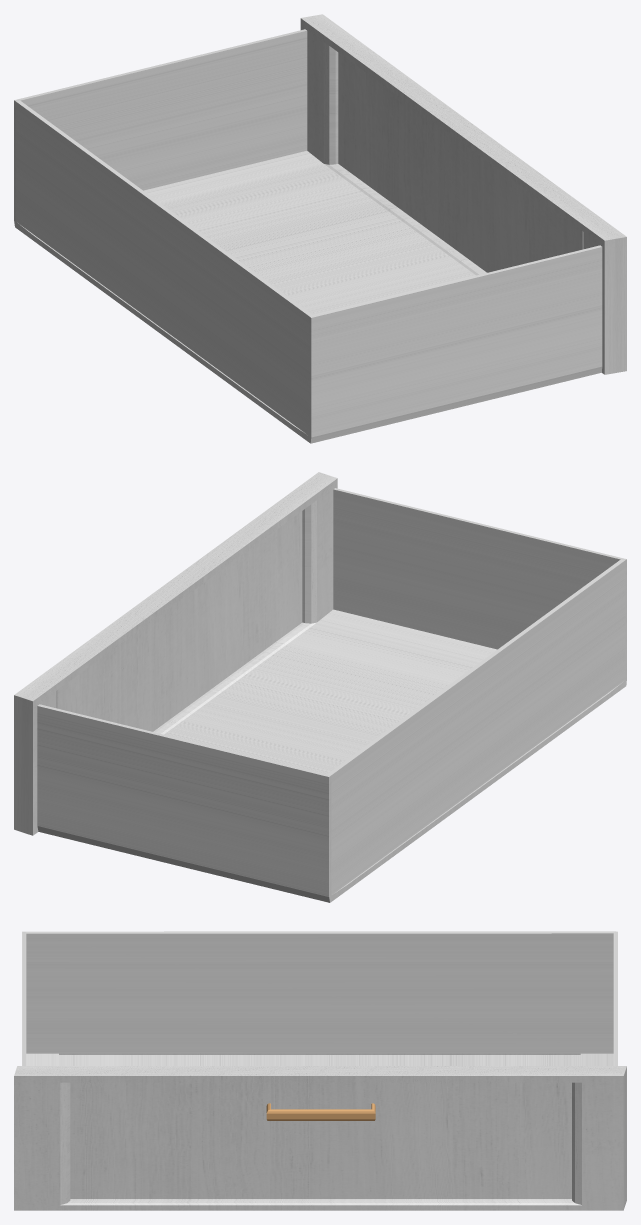
The model's file is Gabeta-Int.fbx.
The picture shows the model from 3 angles, top to bottom: view 1: azimuth 30°, elevation 25°; view 2: azimuth 150°, elevation 25°; view 3: azimuth 270°, elevation 25°; orthographic projection.
Visible parts, largest first — view 1: Drawer-Int; view 2: Drawer-Int; view 3: Drawer-Int.
Boxes of the visible parts, x1,y1,x2,y2 form: Drawer-Int: (14,14,626,443); Drawer-Int: (14,472,626,902); Drawer-Int: (14,931,626,1210).
Bounding box in the file's own units: 233 × 93.91 × 388.
